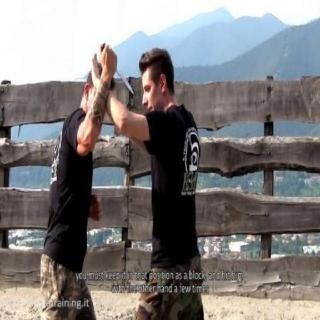knife: (98, 40, 136, 100)
